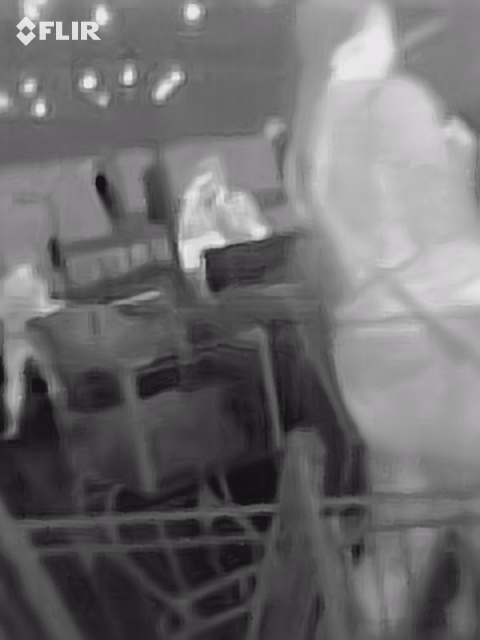head: (296, 1, 402, 83)
